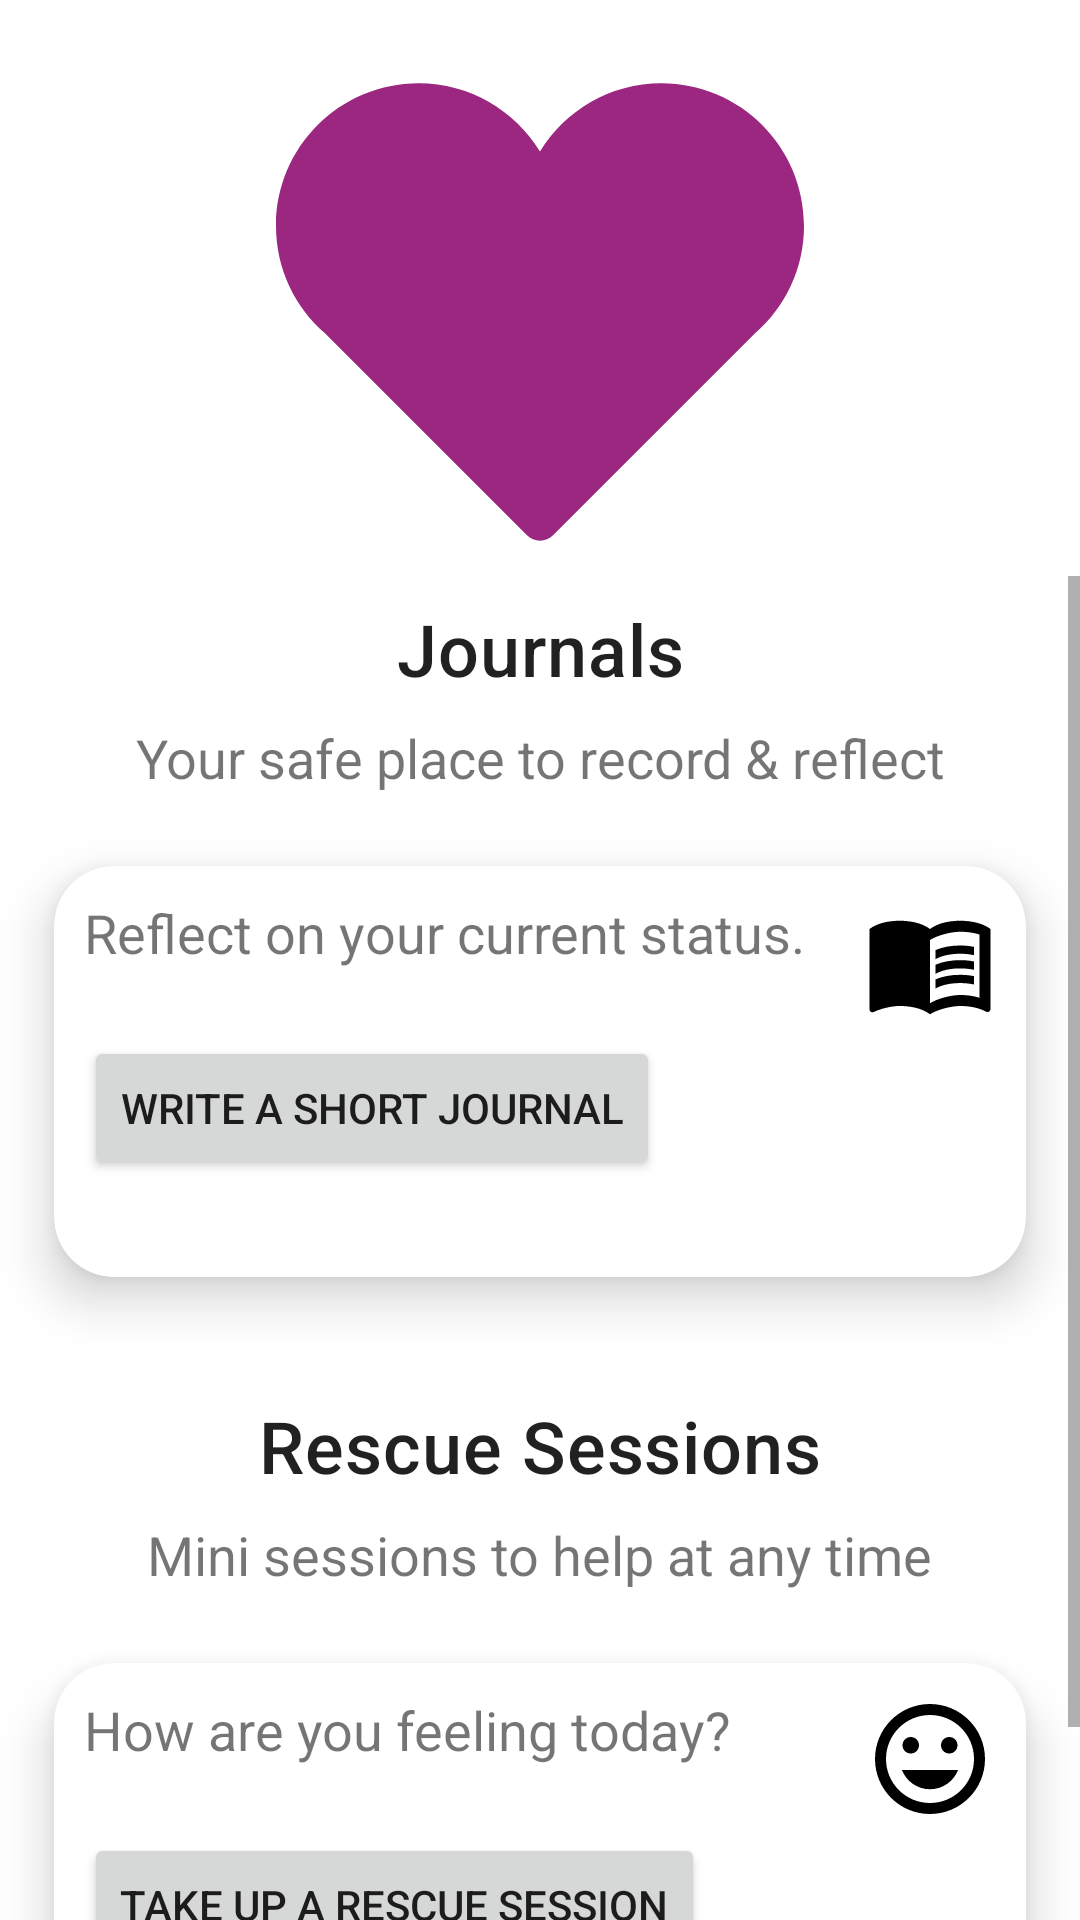

Locate icon controls on the screen. Image size 1080x1920, boxes as (x1=x1, y1=y1, x2=x2, y2=y2).
book: (x1=869, y1=920, x2=991, y2=1014)
